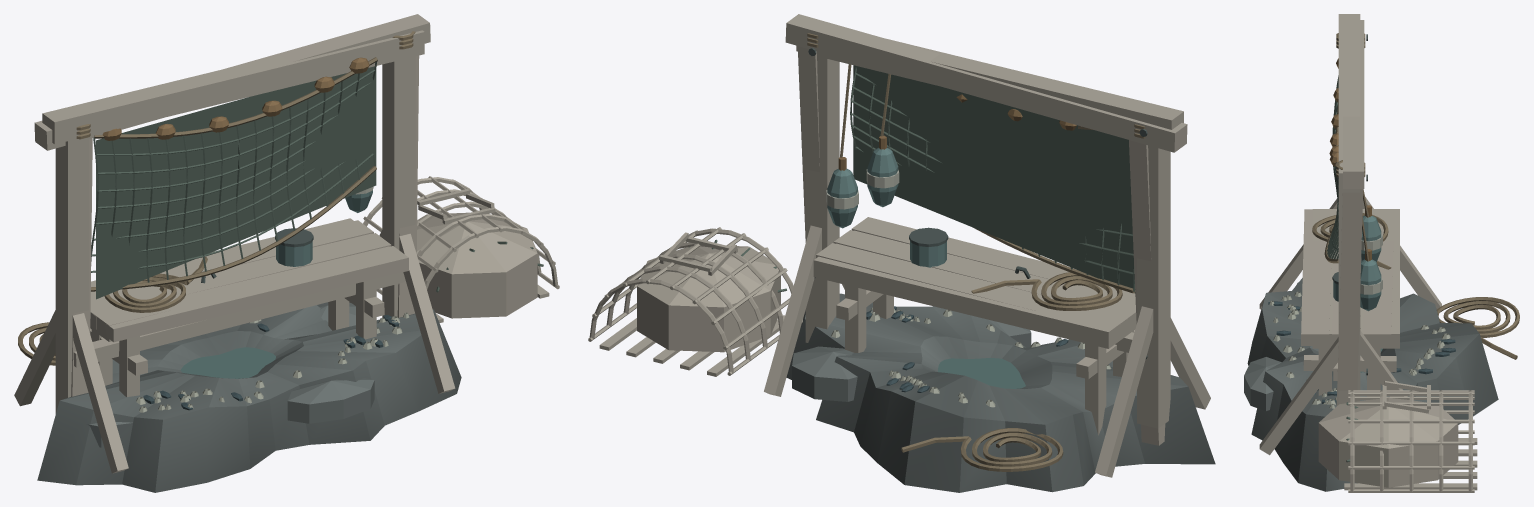
Rendered from shore-details.glb.
3 renders of one model, left to right at view 1: azimuth 30°, elevation 25°; view 2: azimuth 150°, elevation 25°; view 3: azimuth 270°, elevation 25°, orthographic. The views are drawn at different scales.
Visible parts, largest first — view 1: shoreMini, shoreRock, shoreTimber, shoreGear, shorePool, shoreLife; view 2: shoreMini, shoreTimber, shoreRock, shoreGear, shorePool, shoreLife; view 3: shoreTimber, shoreRock, shoreMini, shoreGear, shoreLife.
Part boxes in pixels (x1,y1,x2,y2): shoreMini: [42, 30, 537, 413]; shoreRock: [37, 302, 461, 492]; shoreTimber: [14, 14, 559, 473]; shoreGear: [18, 31, 543, 365]; shorePool: [180, 347, 275, 378]; shoreLife: [136, 312, 409, 412]; shoreMini: [637, 39, 1183, 428]; shoreTimber: [588, 14, 1210, 477]; shoreRock: [786, 293, 1215, 492]; shoreGear: [688, 33, 1147, 471]; shorePool: [937, 357, 1025, 388]; shoreLife: [831, 306, 1111, 407]; shoreTimber: [1259, 20, 1477, 492]; shoreRock: [1244, 278, 1498, 491]; shoreMini: [1312, 14, 1458, 487]; shoreGear: [1312, 33, 1519, 462]; shoreLife: [1268, 291, 1455, 408].
Size of the model in its own units: 4.05 by 2.55 by 2.05.
